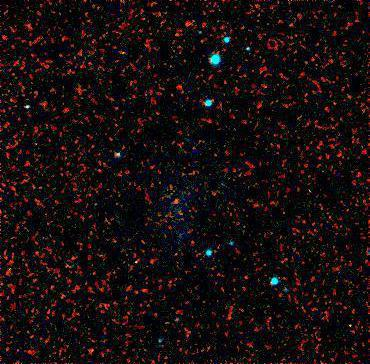star: (159, 186, 189, 216)
